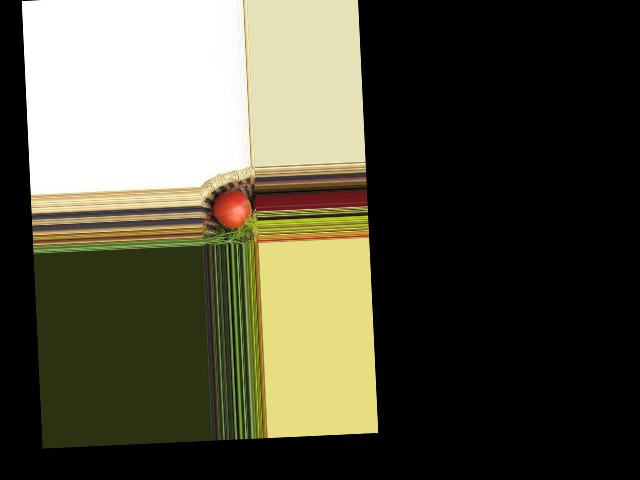tomato: (212, 189, 252, 230)
